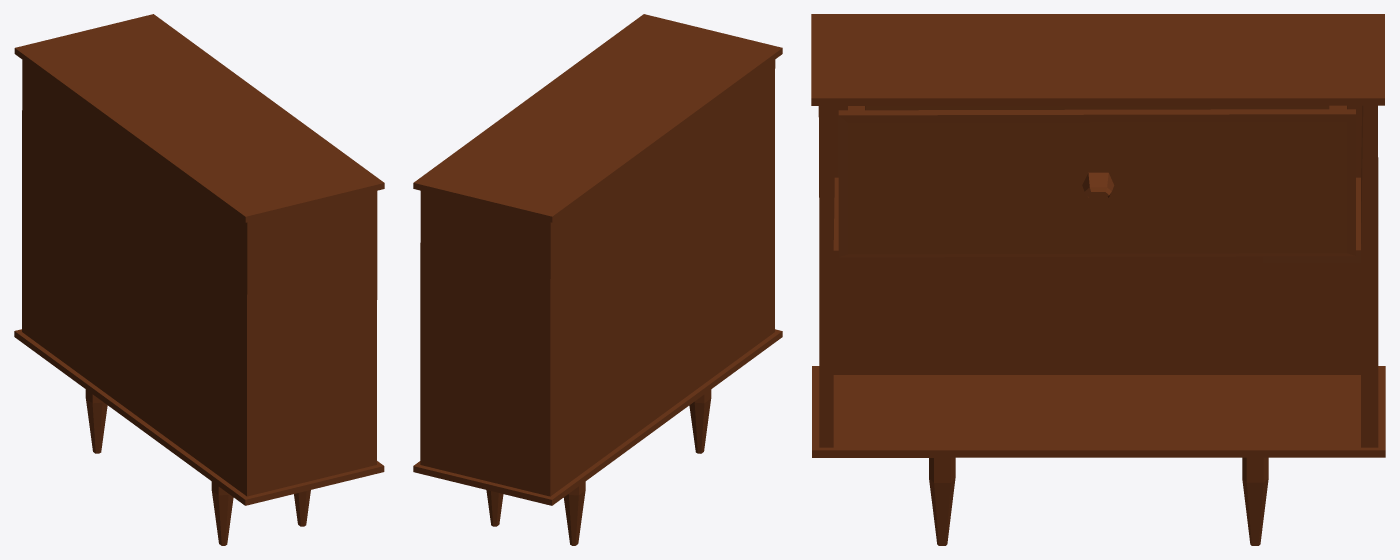
File: MDL_Shelf_01.fbx
The picture shows the model from 3 angles, left to right: view 1: azimuth 30°, elevation 25°; view 2: azimuth 150°, elevation 25°; view 3: azimuth 270°, elevation 25°; orthographic projection. The views are drawn at different scales.
Parts seen in each view (by area): view 1: MDL_Living_Shelf; view 2: MDL_Living_Shelf; view 3: MDL_Living_Shelf, MDL_SHelf_Drawer.
Boxes of the visible parts, x1=… form: MDL_Living_Shelf: x1=14, y1=14, x2=384, y2=545; MDL_Living_Shelf: x1=413, y1=14, x2=782, y2=545; MDL_Living_Shelf: x1=811, y1=14, x2=1385, y2=545; MDL_SHelf_Drawer: x1=838, y1=105, x2=1355, y2=257.
Size of the model in its own units: 23.93 by 53.82 by 60.35.
